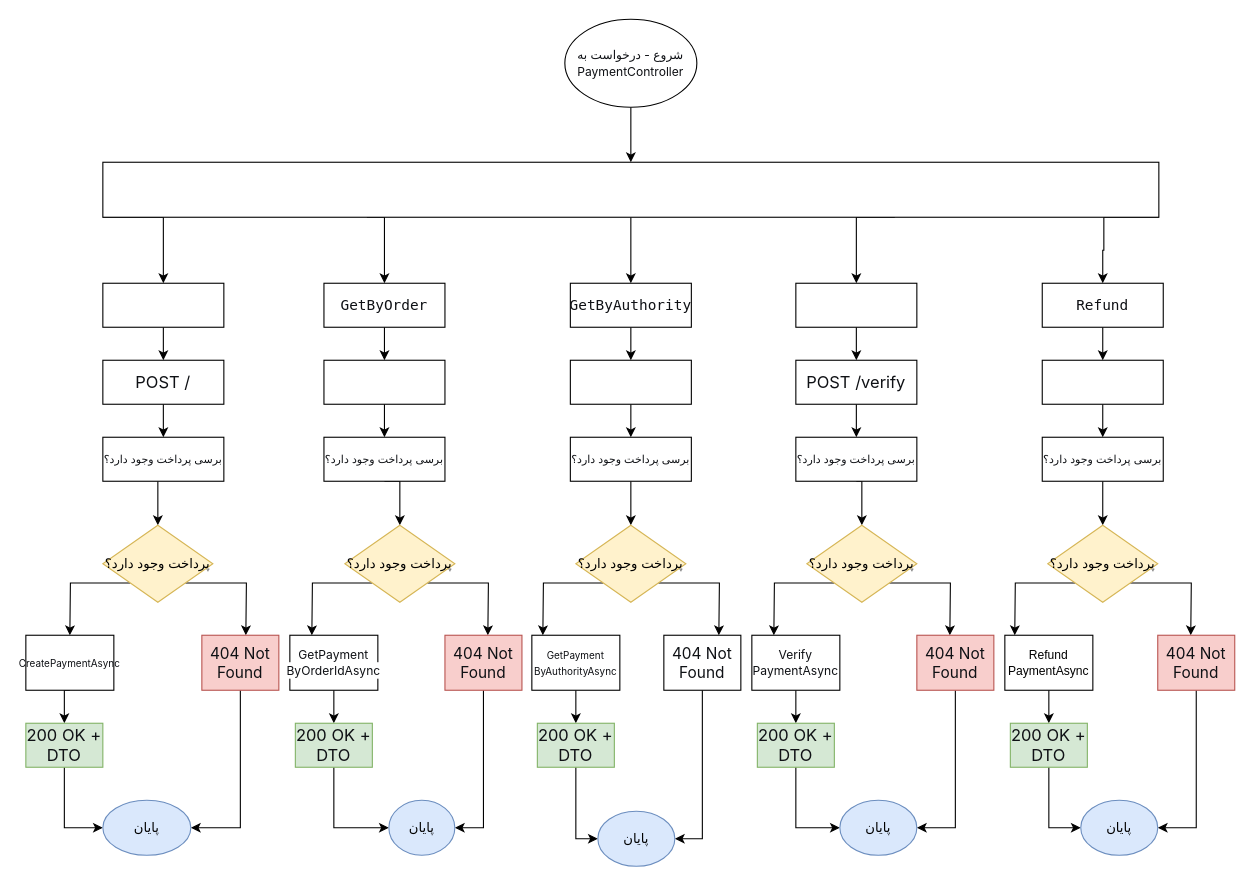
Image size: 1254x886. Some labels were removed from this diagram. The centre of each missing label's shape, as x and y in pixels:
Create: the point at 163,304
GET /authority/{authority}: the point at 630,381
GET /order/{orderId}: the point at 384,381
POST /{id}/refund: the point at 1102,381
Verify: the point at 856,304
بررسی HTTP Method + Route: the point at 630,189
